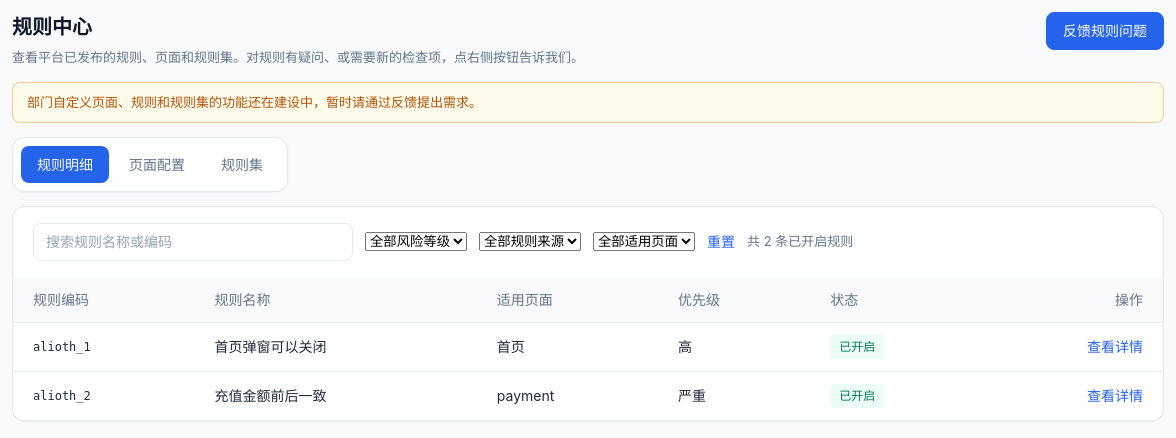
部门规则中心 › 风险、真实来源、适用页面和关键词组合筛选，重置恢复全量
Select "高" in the dropdown with test id "rule-center-severity": [416, 242] box top-left (365, 232), bottom-right (467, 251)
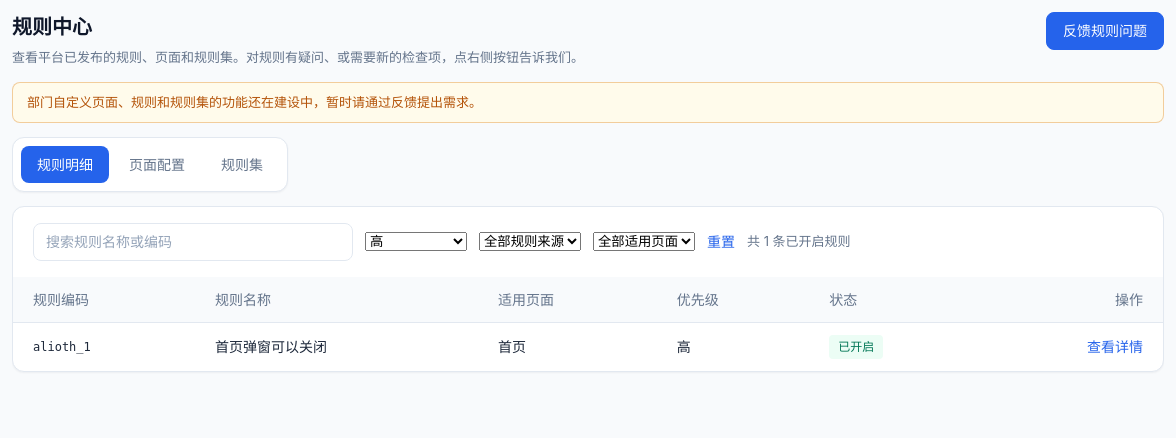
Select "电子表格" in the dropdown with test id "rule-center-source": [530, 242] box top-left (479, 232), bottom-right (581, 251)
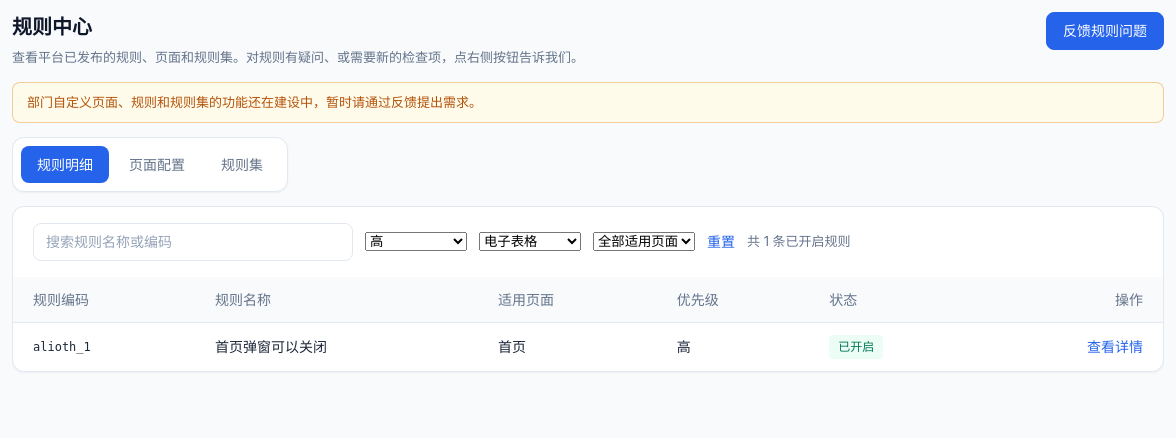
Select "首页" in the dropdown with test id "rule-center-page": [644, 242] box top-left (593, 232), bottom-right (695, 251)
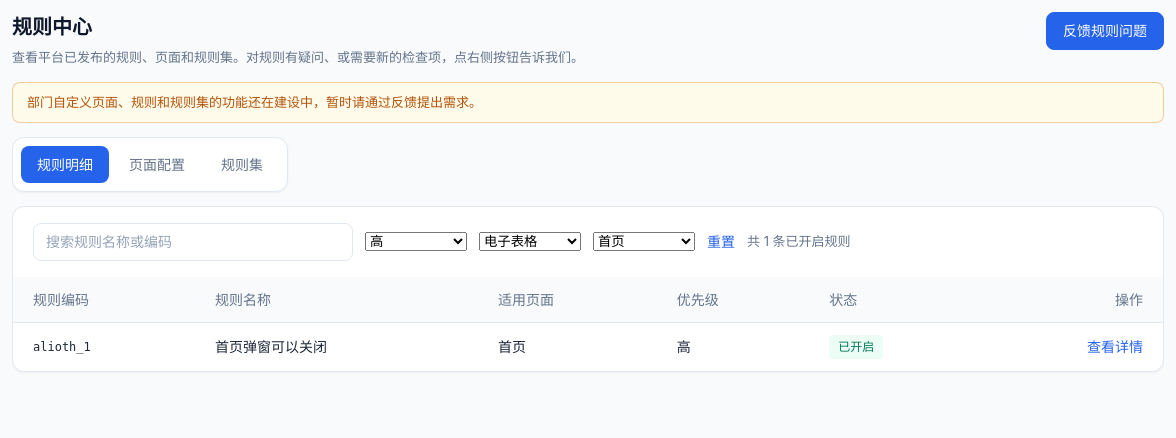
In the field with test id "rule-center-keyword": [193, 242] box top-left (33, 223), bottom-right (353, 261), type "alioth_1"
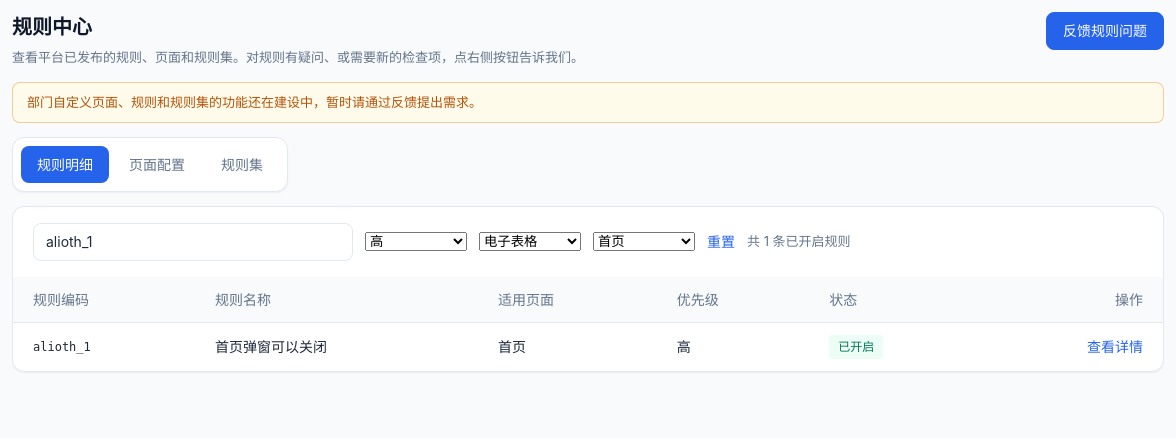
Expected: the table with test id "rule-center-rules" shows "首页弹窗可以关闭", top-left (215, 338), bottom-right (327, 355)
Expected: the text "共 1 条已开启规则" is shown, top-left (747, 232), bottom-right (851, 252)
Select "手动创建" in the dropdown with test id "rule-center-source": [530, 242] box top-left (479, 232), bottom-right (581, 251)
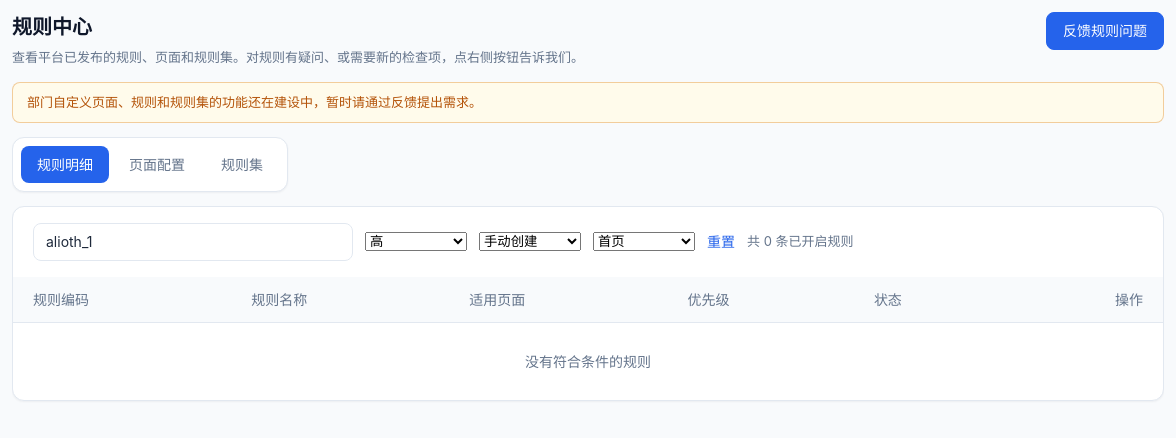
Expected: the table with test id "rule-center-rules" shows "没有符合条件的规则", top-left (525, 353), bottom-right (651, 370)
Click the button with test id "rule-center-reset": [721, 242] box top-left (707, 231), bottom-right (735, 252)
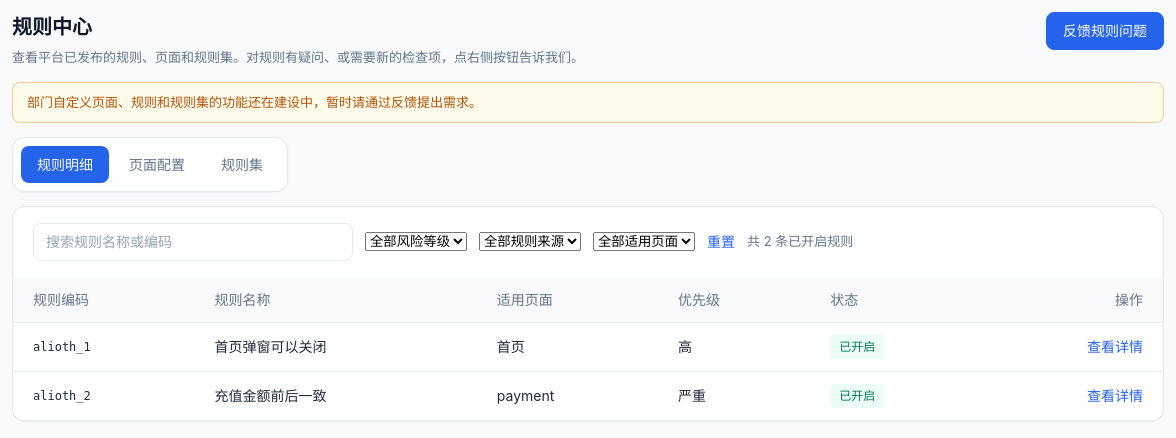
Expected: the table with test id "rule-center-rules" shows "首页弹窗可以关闭", top-left (215, 338), bottom-right (327, 355)
Expected: the table with test id "rule-center-rules" shows "充值金额前后一致", top-left (215, 387), bottom-right (327, 404)
Expected: the text "共 2 条已开启规则" is shown, top-left (747, 232), bottom-right (853, 252)
